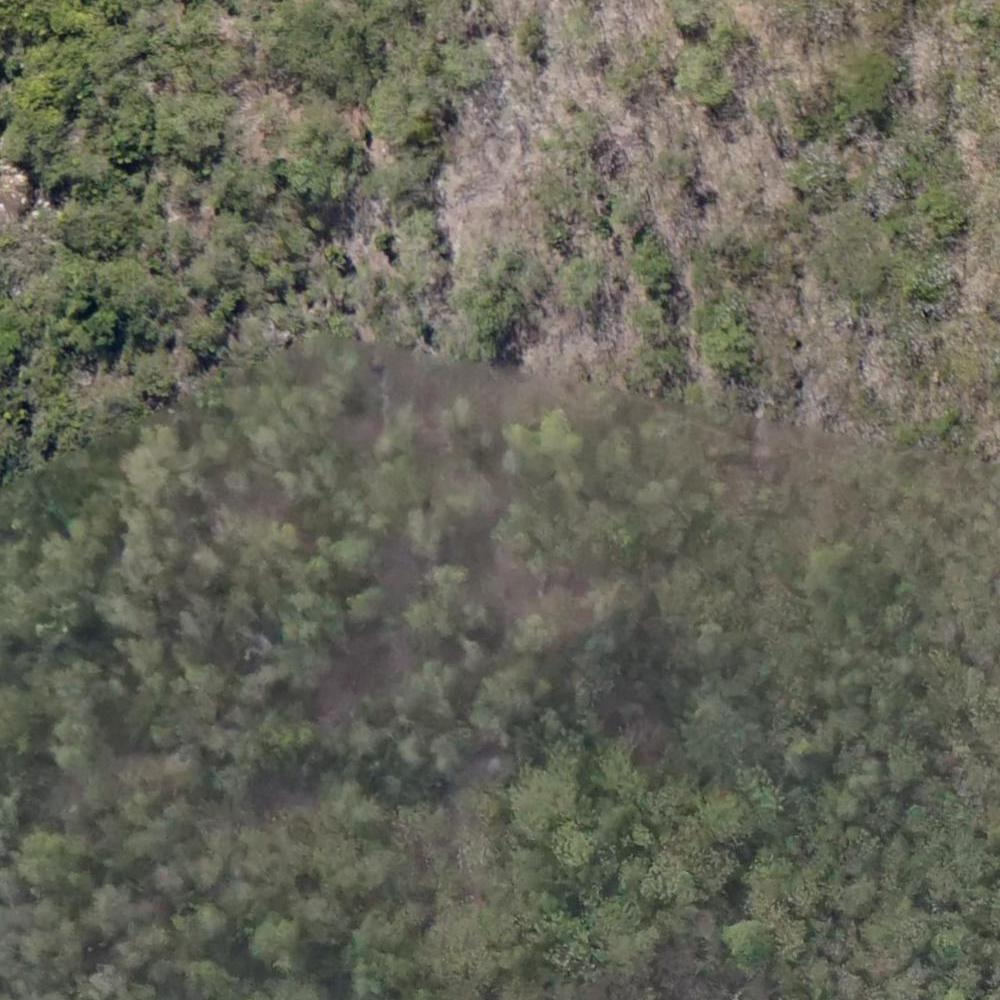tree: (425, 904, 497, 997), (375, 74, 439, 148), (681, 700, 751, 764), (127, 437, 192, 499), (510, 773, 573, 829), (331, 843, 396, 897), (464, 279, 523, 335), (292, 143, 346, 204), (843, 54, 899, 109), (165, 107, 221, 161), (681, 46, 735, 102), (18, 832, 68, 891), (379, 157, 434, 209), (701, 790, 751, 844), (334, 776, 383, 830), (278, 636, 329, 687), (806, 544, 857, 595), (254, 912, 297, 971), (169, 603, 223, 648), (707, 320, 757, 368), (49, 721, 98, 769), (513, 606, 558, 654), (105, 264, 148, 312), (132, 352, 172, 401), (330, 526, 372, 572), (428, 736, 470, 781), (116, 629, 158, 673), (631, 239, 670, 282), (732, 923, 777, 960), (535, 404, 572, 449), (587, 578, 626, 618), (696, 616, 729, 660), (349, 718, 385, 758), (394, 727, 429, 768), (342, 587, 378, 625)
